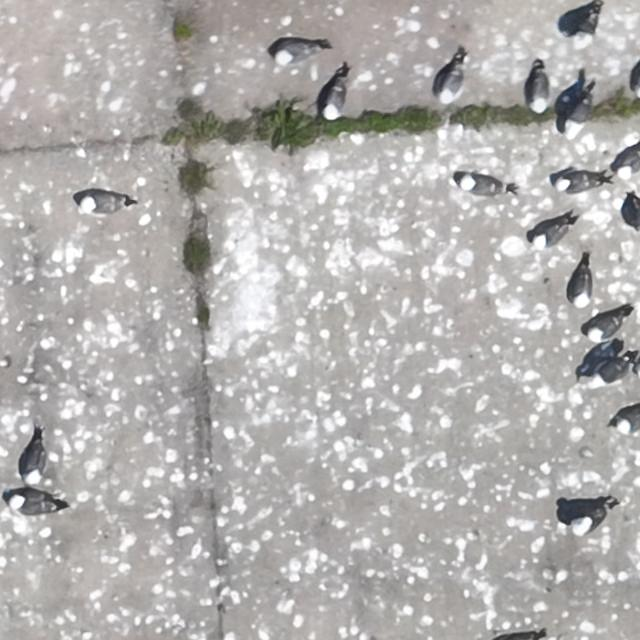umineko: (566, 90, 595, 143), (22, 435, 47, 485), (576, 12, 599, 51), (10, 494, 52, 514), (534, 222, 566, 248), (587, 315, 619, 341), (439, 68, 462, 104), (615, 147, 638, 183), (81, 193, 122, 213), (570, 508, 603, 532), (615, 407, 640, 436), (277, 43, 313, 63), (531, 75, 550, 111), (593, 361, 624, 383), (574, 271, 592, 308), (462, 179, 501, 196), (324, 86, 344, 118), (560, 174, 593, 192)
